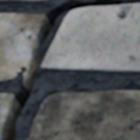brick: (41, 3, 139, 72), (27, 90, 139, 139), (0, 13, 45, 80), (0, 93, 15, 139), (0, 0, 49, 3)
crack: (1, 0, 139, 139)
